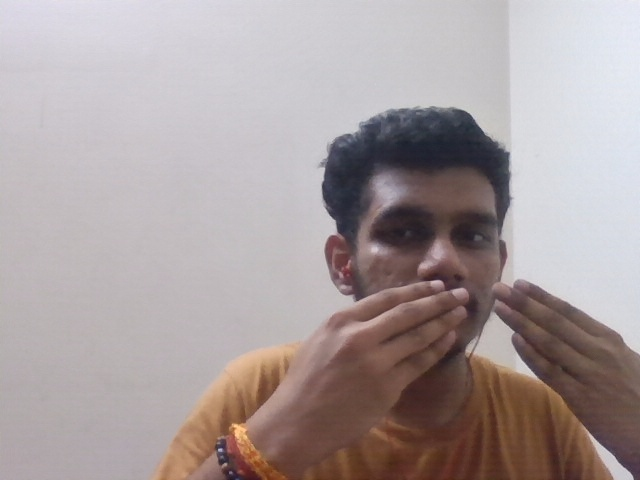thanks: (264, 259, 635, 431)
